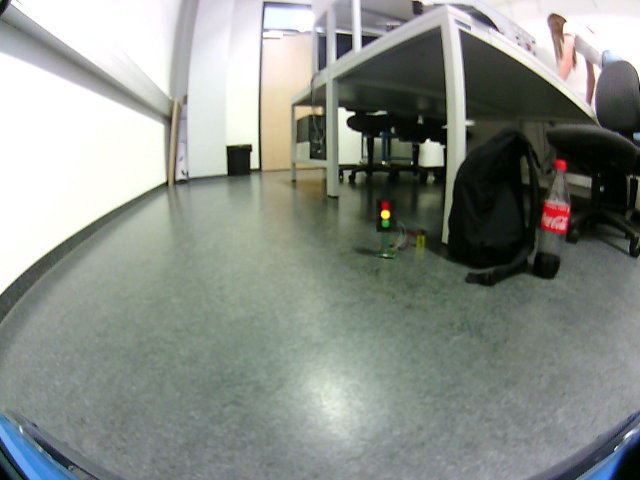yellow trafficlight: (377, 201, 393, 229)
